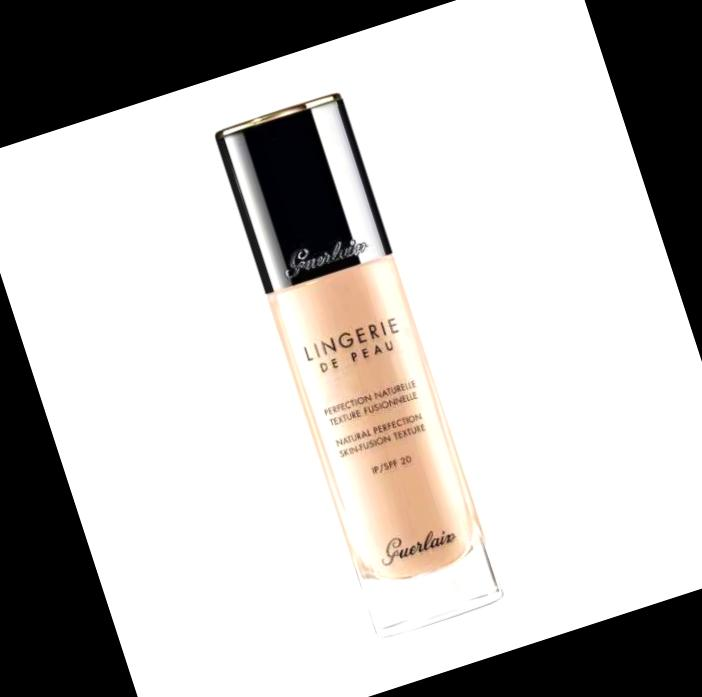cosmetic: (212, 87, 508, 638)
